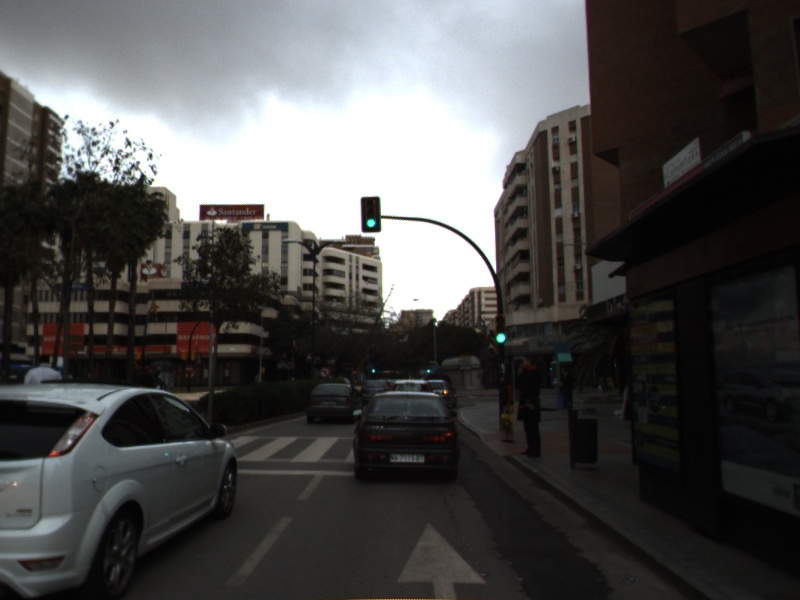STRAIGHT: (394, 520, 489, 600)
